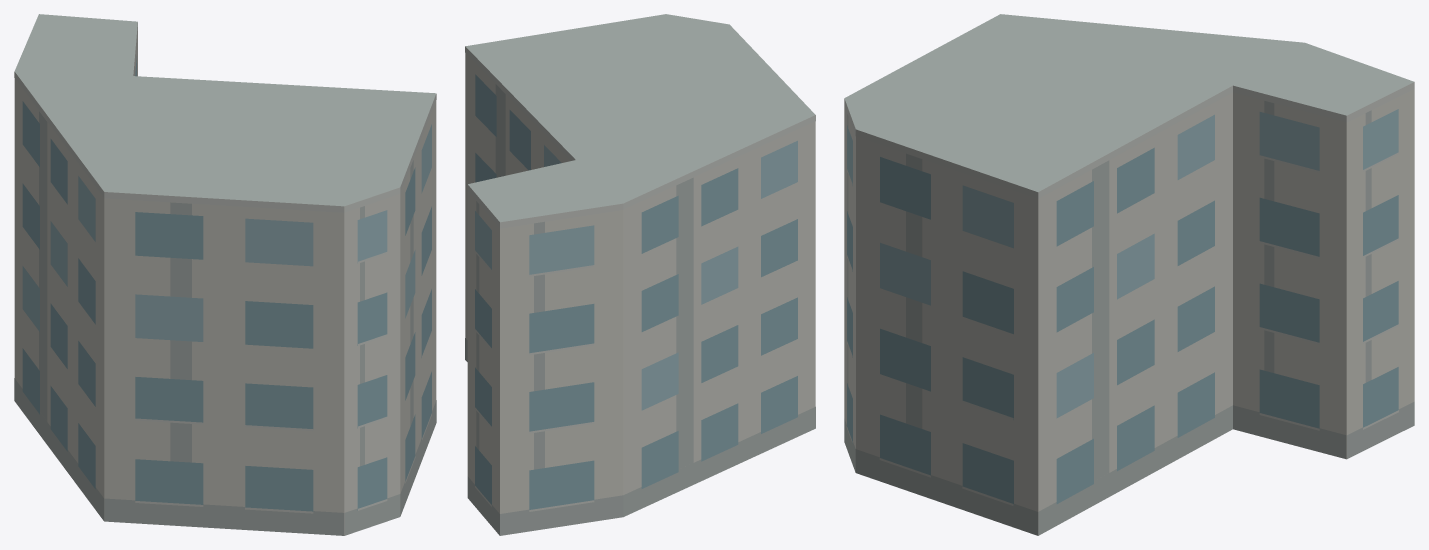
The model's file is residential-6290890c-b6b6-4dbe-b712-78c398af5c65.glb.
3 views of the same model, side by side, from view 1: azimuth 30°, elevation 25°; view 2: azimuth 150°, elevation 25°; view 3: azimuth 270°, elevation 25° (orthographic). The views are drawn at different scales.
Parts seen in each view (by area): view 1: residential-6290890c-b6b6-4dbe-b712-78c398af5c65.tmp; view 2: residential-6290890c-b6b6-4dbe-b712-78c398af5c65.tmp; view 3: residential-6290890c-b6b6-4dbe-b712-78c398af5c65.tmp.
Part boxes in pixels (left/top/right/bottom): residential-6290890c-b6b6-4dbe-b712-78c398af5c65.tmp: left=14, top=14, right=436, bottom=535; residential-6290890c-b6b6-4dbe-b712-78c398af5c65.tmp: left=465, top=14, right=815, bottom=535; residential-6290890c-b6b6-4dbe-b712-78c398af5c65.tmp: left=844, top=14, right=1414, bottom=535.
Bounding box in the file's own units: 13.58 × 12.2 × 18.36.
